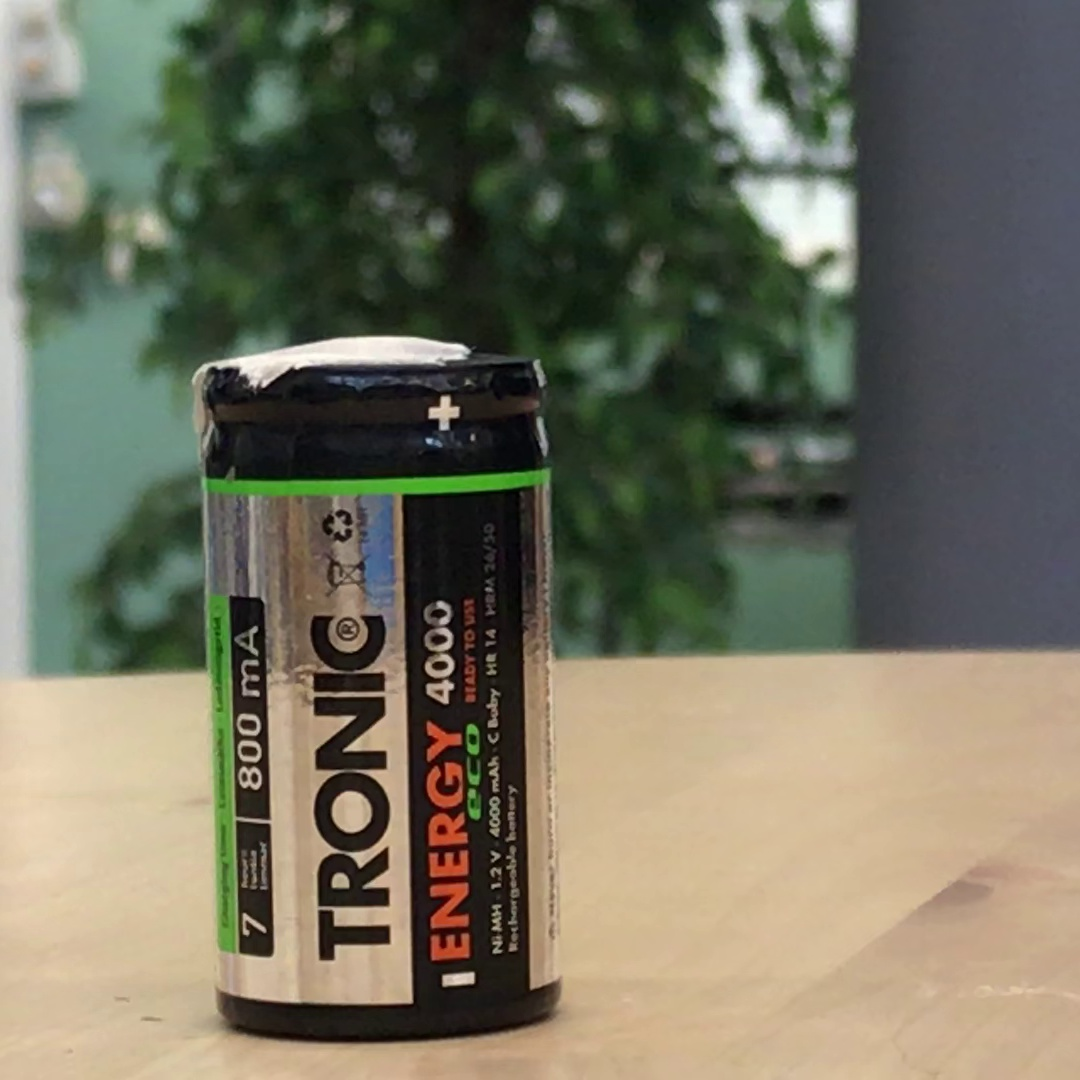keyword: (483, 897, 511, 963), (482, 842, 510, 898)
